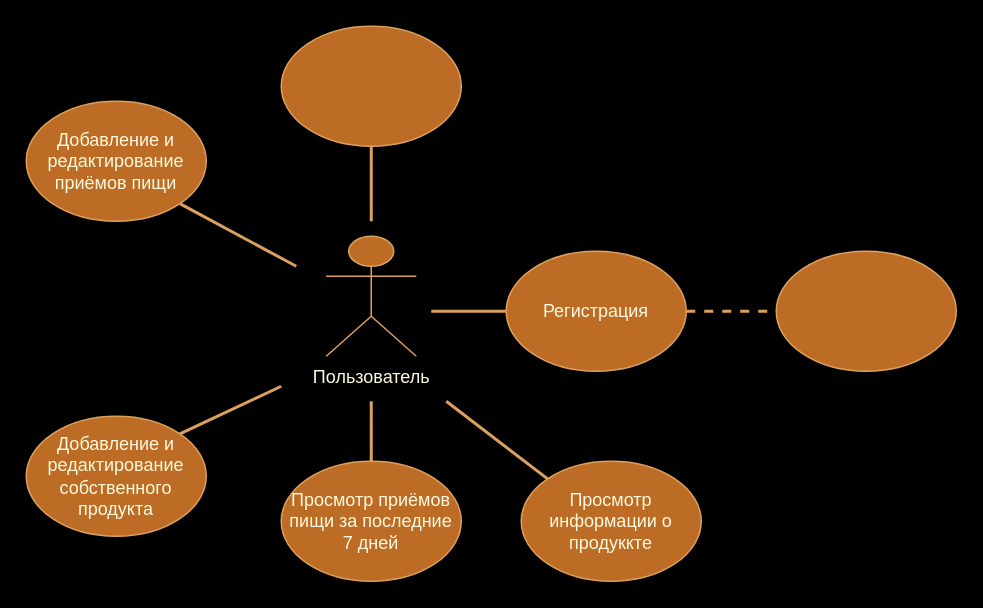
Some shapes in this 983 by 608 pixel diagram are drawn without their labels. Each missing label, with the centre of its shape:
"Авторизация" goes at point 865,310.
"Управление профилем" goes at point 370,85.
